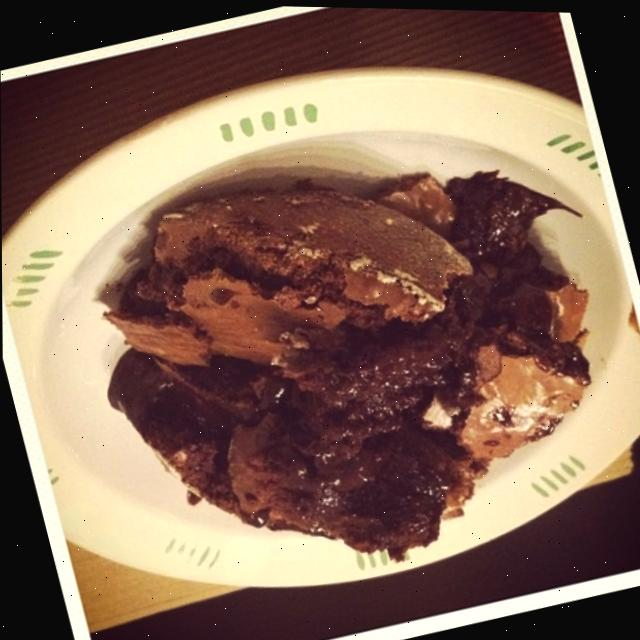蛋糕甜品: (0, 24, 640, 638)
